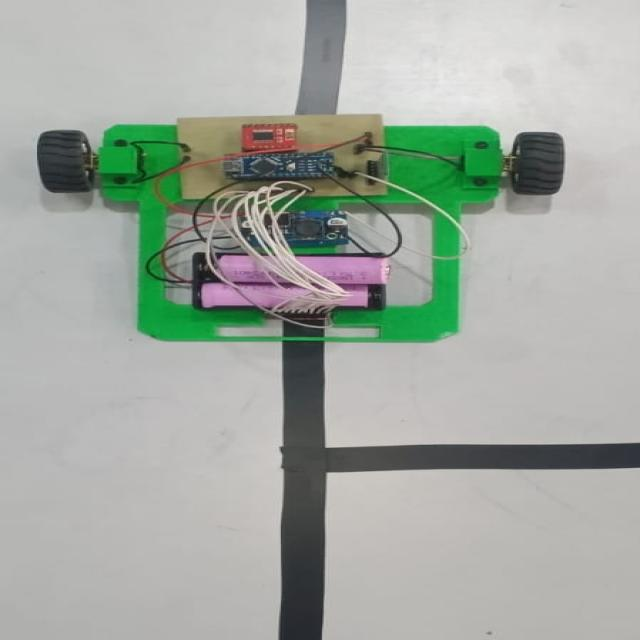vehicle: (58, 113, 562, 333)
